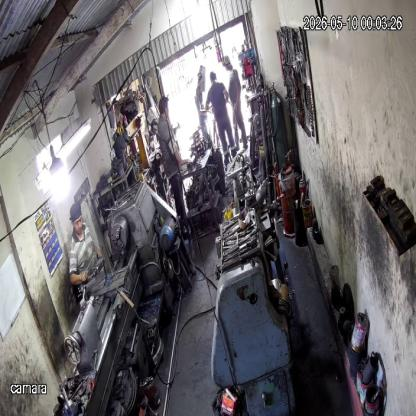sin_lentes: (70, 218, 83, 226)
